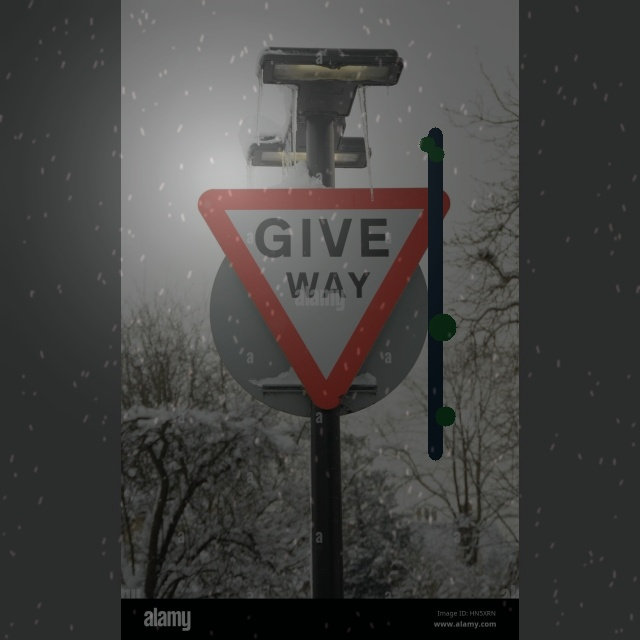Give_Way: (201, 187, 447, 414)
